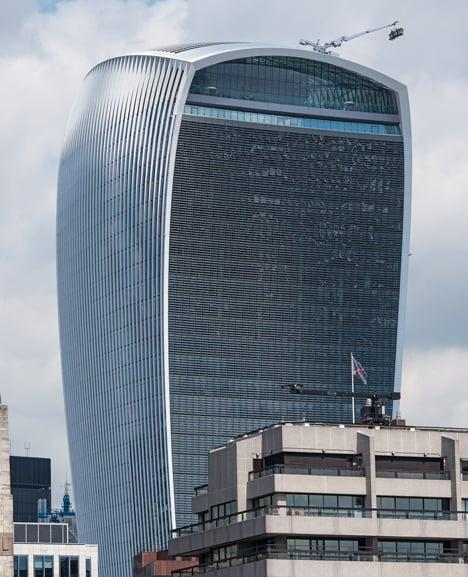Walkie talkie: (49, 26, 419, 533)
